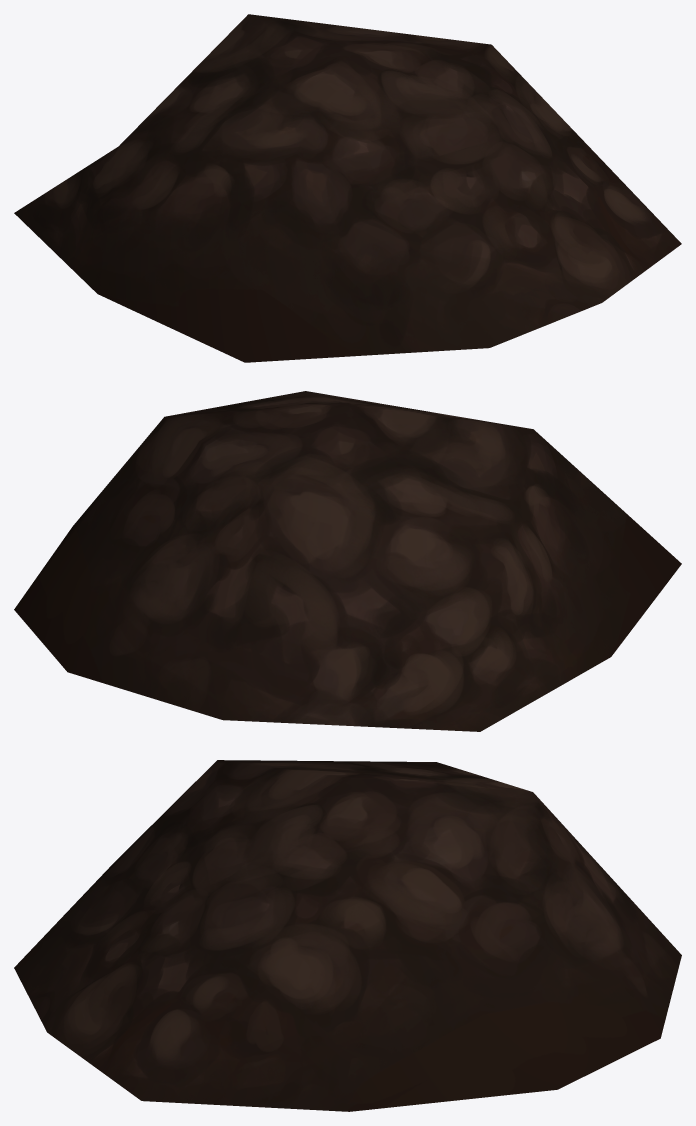
File: SM_PROP_dirtpile_02.fbx
3 views of the same model, one above another, from view 1: azimuth 30°, elevation 25°; view 2: azimuth 150°, elevation 25°; view 3: azimuth 270°, elevation 25° (orthographic). The views are drawn at different scales.
Visible parts, largest first — view 1: SM_PROP_dirtpile_02; view 2: SM_PROP_dirtpile_02; view 3: SM_PROP_dirtpile_02.
Part boxes in pixels (x1=…): SM_PROP_dirtpile_02: x1=14, y1=14, x2=681, y2=362; SM_PROP_dirtpile_02: x1=14, y1=391, x2=681, y2=731; SM_PROP_dirtpile_02: x1=14, y1=760, x2=681, y2=1111.
Size of the model in its own units: 138 by 46.15 by 144.
